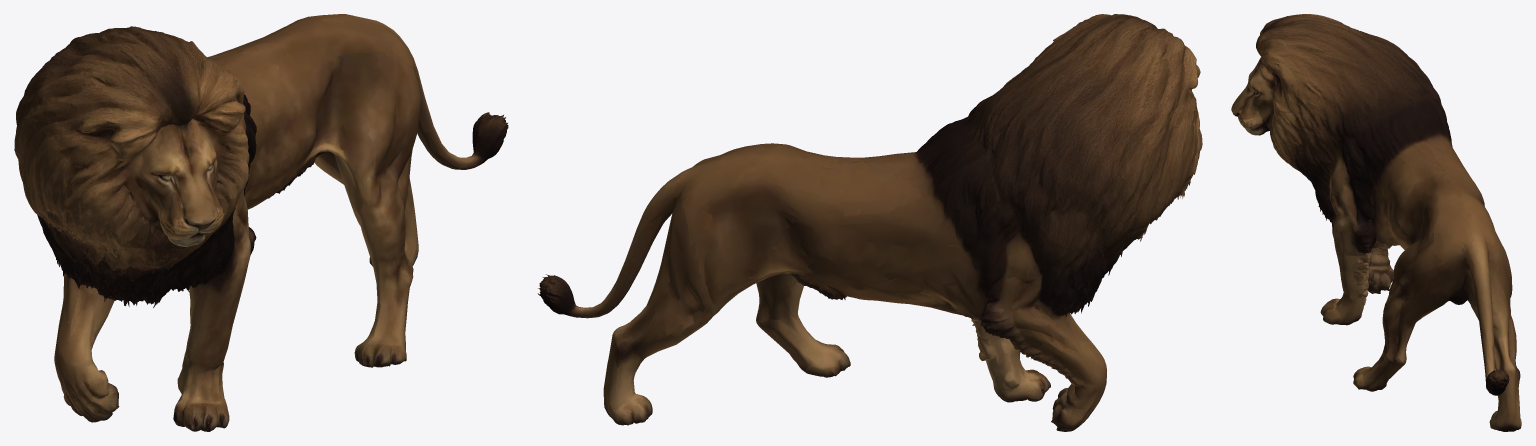
Rendered from lion.glb.
The picture shows the model from 3 angles, left to right: view 1: azimuth 30°, elevation 25°; view 2: azimuth 150°, elevation 25°; view 3: azimuth 270°, elevation 25°; orthographic projection. The views are drawn at different scales.
Visible parts, largest first — view 1: Mesh_0; view 2: Mesh_0; view 3: Mesh_0.
Boxes of the visible parts, <box> form: Mesh_0: <box>14,14,508,431</box>; Mesh_0: <box>537,14,1202,431</box>; Mesh_0: <box>1231,14,1521,431</box>.
Bounding box in the file's own units: 1.89 × 1.3 × 1.21.
1 material, 1 textured.
